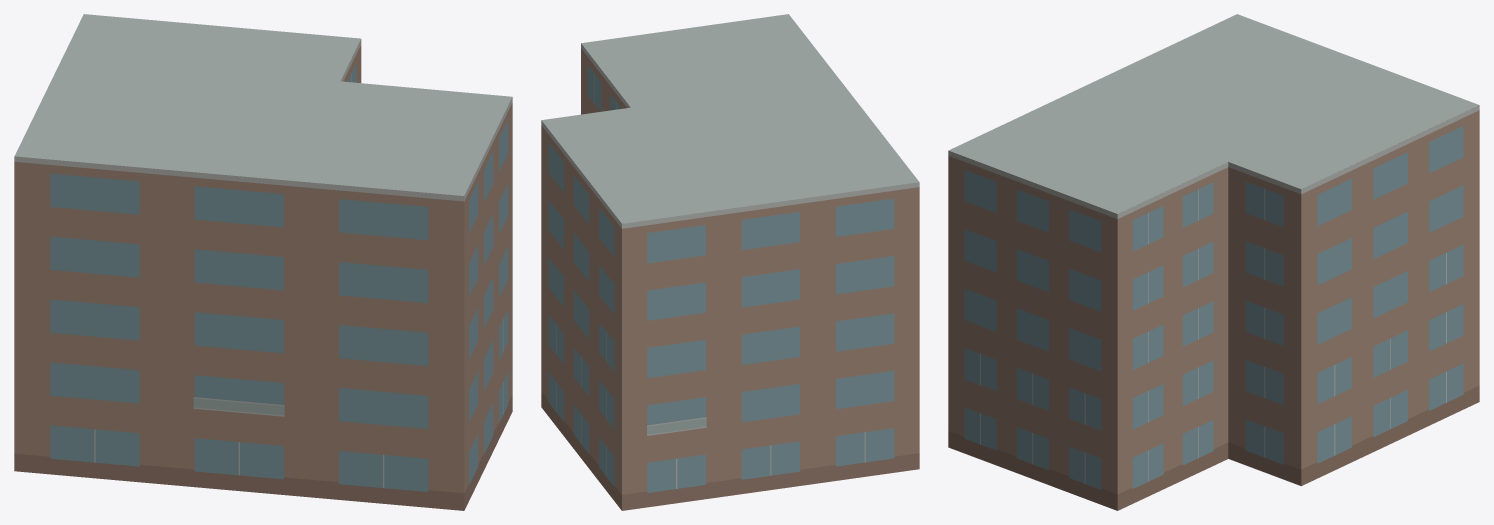
File: survey-upis-32920170.glb
3 views of the same model, side by side, from view 1: azimuth 30°, elevation 25°; view 2: azimuth 150°, elevation 25°; view 3: azimuth 270°, elevation 25° (orthographic). The views are drawn at different scales.
Parts seen in each view (by area): view 1: survey-upis-32920170.tmp; view 2: survey-upis-32920170.tmp; view 3: survey-upis-32920170.tmp.
Part boxes in pixels (left/top/right/bottom): survey-upis-32920170.tmp: left=14, top=14, right=512, bottom=510; survey-upis-32920170.tmp: left=541, top=14, right=919, bottom=510; survey-upis-32920170.tmp: left=948, top=14, right=1479, bottom=510.
Size of the model in its own units: 20.53 by 14.2 by 23.04.
